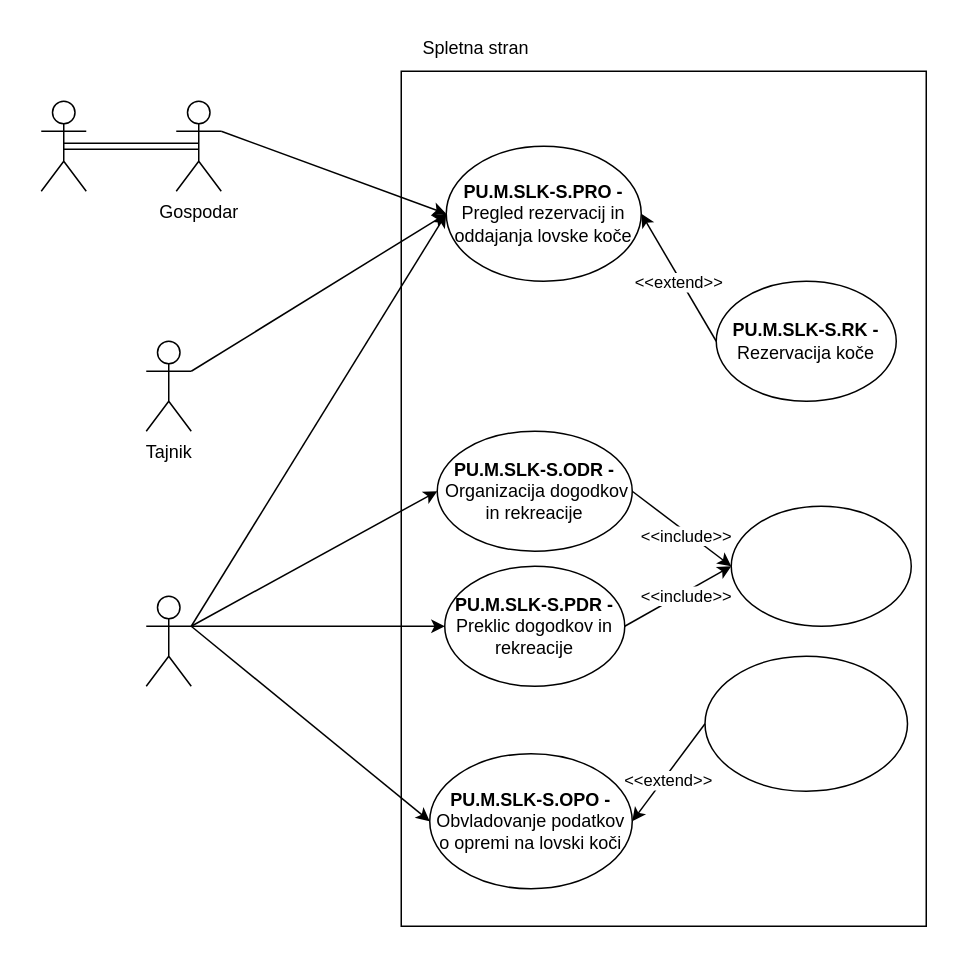
Image size: 953x953. Some labels were removed from this diagram. Here are the shapes that lost their labels. From the top down, the centre of each, then its label:
At (x=63, y=145): "Starešina".
At (x=820, y=565): "PU.TM.OBV.PO - Pošiljanje obvestil".
At (x=168, y=640): "Skbnik lovkse koče".
At (x=806, y=723): "PU.M.SLK-S.ILI - Izvajanje letne inventure".
